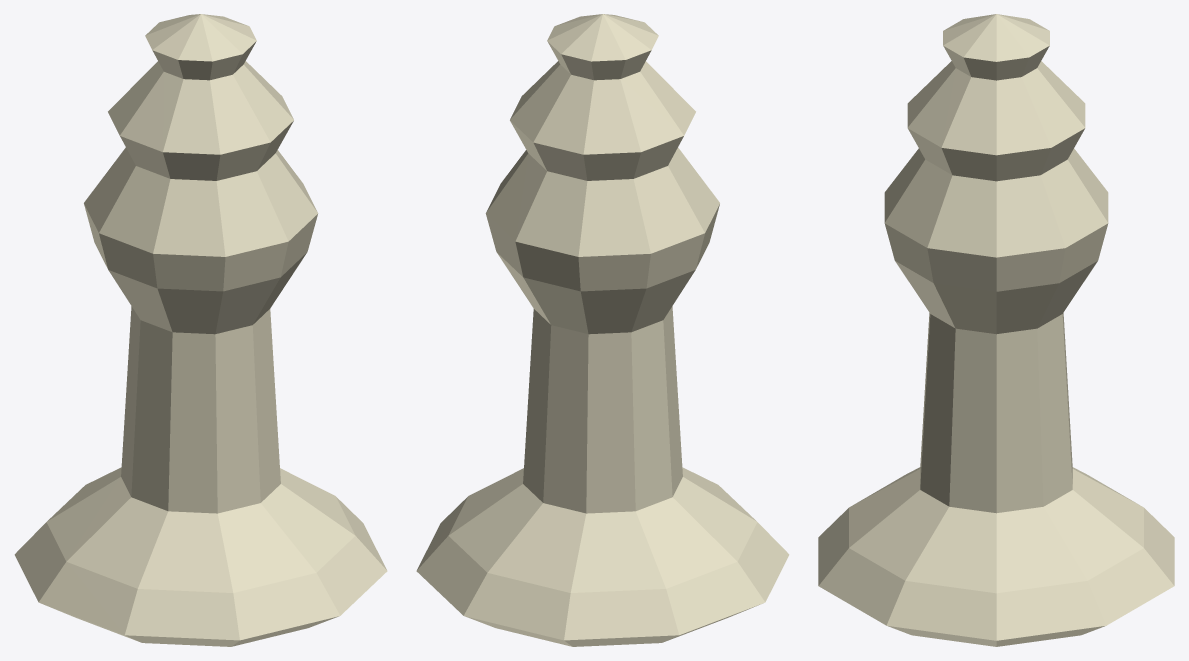
File: bishop.obj
The picture shows the model from 3 angles, left to right: view 1: azimuth 30°, elevation 25°; view 2: azimuth 150°, elevation 25°; view 3: azimuth 270°, elevation 25°; orthographic projection.
Size of the model in its own units: 0.7 by 1.18 by 0.6658.
